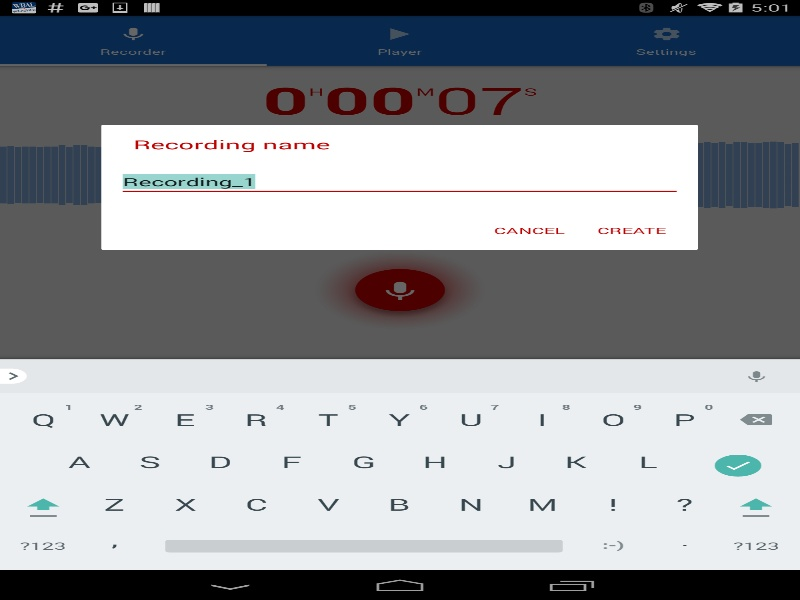Button: (478, 213, 580, 247), (580, 213, 682, 247)
Input: (117, 167, 682, 196)
